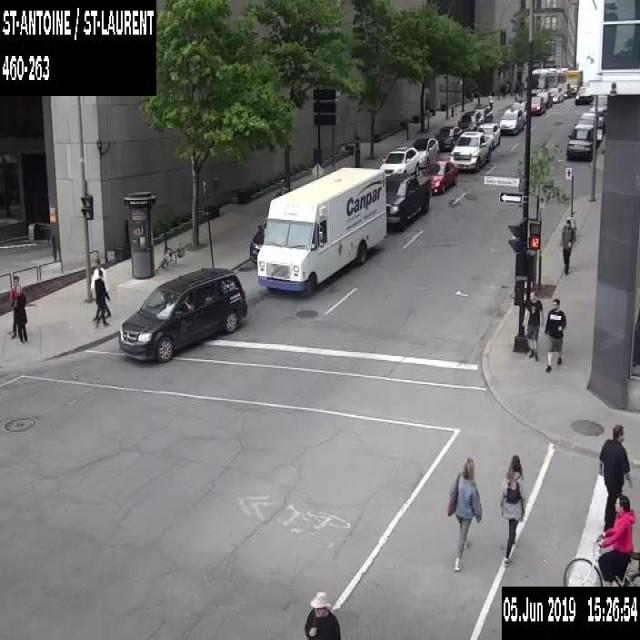bus: (530, 66, 567, 94)
cyclist: (562, 494, 639, 586)
pedestrian: (446, 455, 482, 572), (596, 421, 633, 531), (494, 453, 526, 567), (304, 589, 341, 639), (542, 297, 566, 373), (522, 289, 544, 362), (90, 258, 110, 320), (12, 283, 29, 341), (560, 217, 575, 276), (94, 267, 108, 328), (8, 274, 21, 338)
vehicle: (257, 165, 385, 296), (118, 265, 247, 362), (386, 172, 430, 229), (450, 132, 493, 172), (379, 144, 419, 178), (423, 159, 458, 193), (249, 212, 268, 264), (410, 136, 439, 167), (566, 124, 593, 157), (434, 124, 463, 151), (498, 107, 524, 134), (475, 121, 500, 149), (577, 111, 603, 137), (457, 109, 482, 131), (588, 106, 606, 130), (472, 104, 492, 125), (567, 68, 582, 94), (512, 99, 527, 122), (574, 85, 593, 103), (529, 95, 545, 116), (536, 90, 552, 108), (547, 86, 563, 102), (556, 81, 570, 97)
